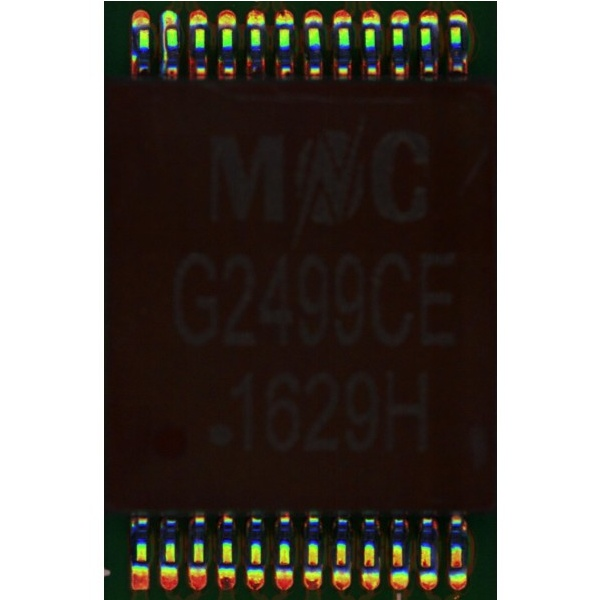Bad_podu: (164, 18, 174, 36)
Bad_qiaojiao: (161, 29, 166, 75)
